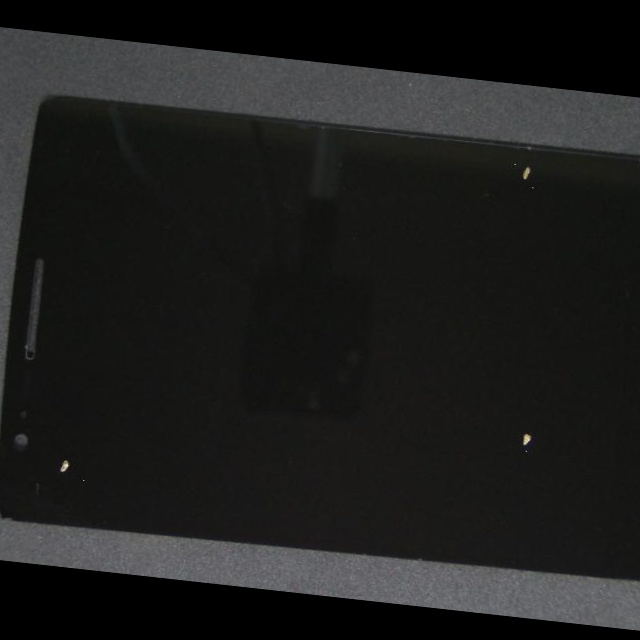stain: (165, 210, 640, 636), (264, 66, 640, 221), (0, 254, 120, 570)
